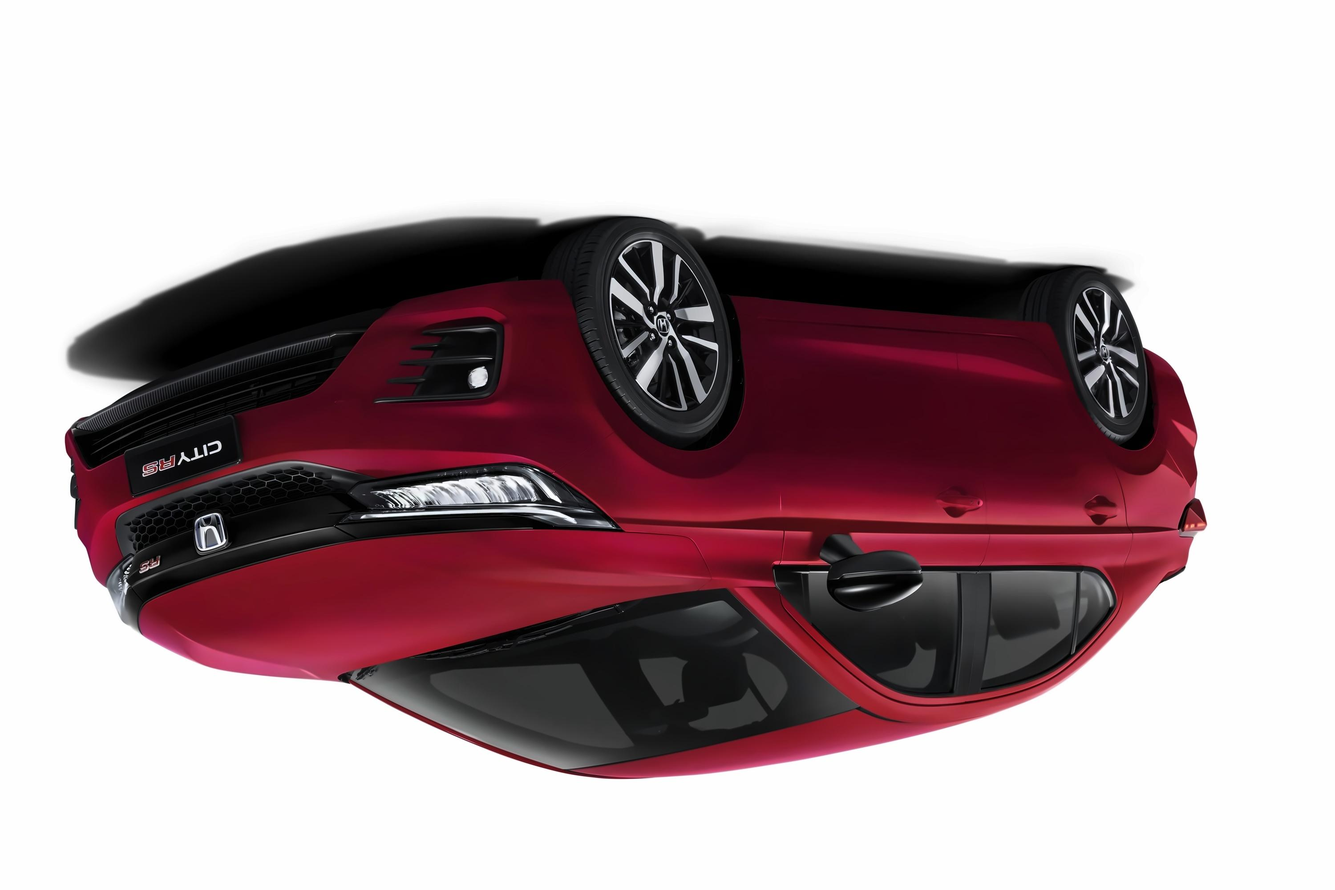Car hood: (128, 501, 736, 686)
Driver-s door - -F-R-: (742, 260, 988, 728)
Fender - -F-R-: (575, 361, 778, 608)
Fender - -R-R-: (1036, 390, 1209, 630)
Front bumper: (45, 260, 586, 566)
Headlight - -L-: (104, 543, 171, 630)
Headlight - -R-: (340, 460, 624, 533)
Passenger-s door - -R-R-: (949, 234, 1137, 721)
Rear bumper: (1130, 343, 1213, 481)
Side bumper - -R-: (723, 271, 1097, 402)
Side mirror - -R-: (807, 526, 922, 609)
